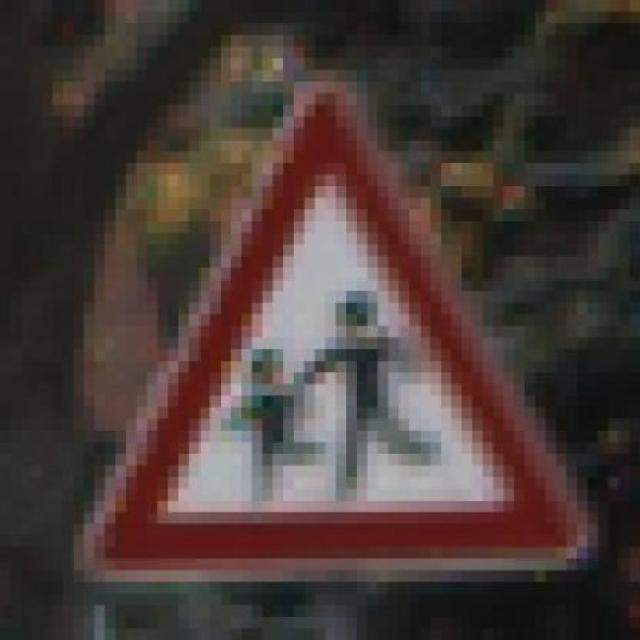Beware of children: (62, 81, 608, 594)
